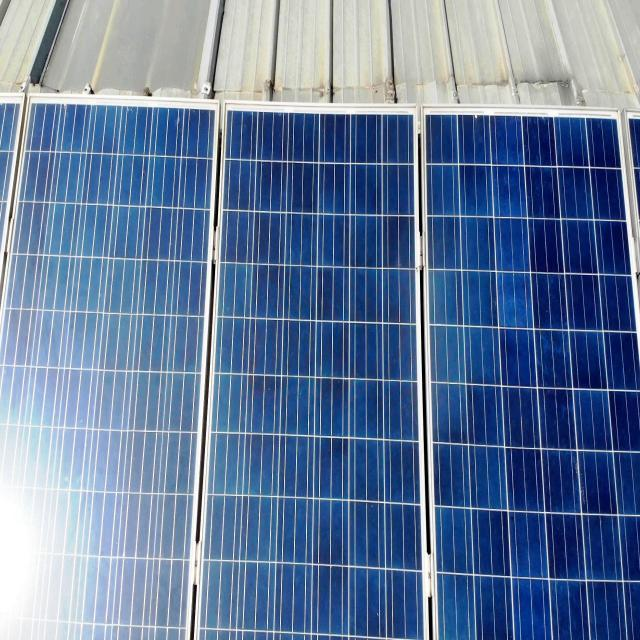no faulty: (187, 108, 430, 640), (0, 101, 222, 640), (416, 113, 636, 640)
